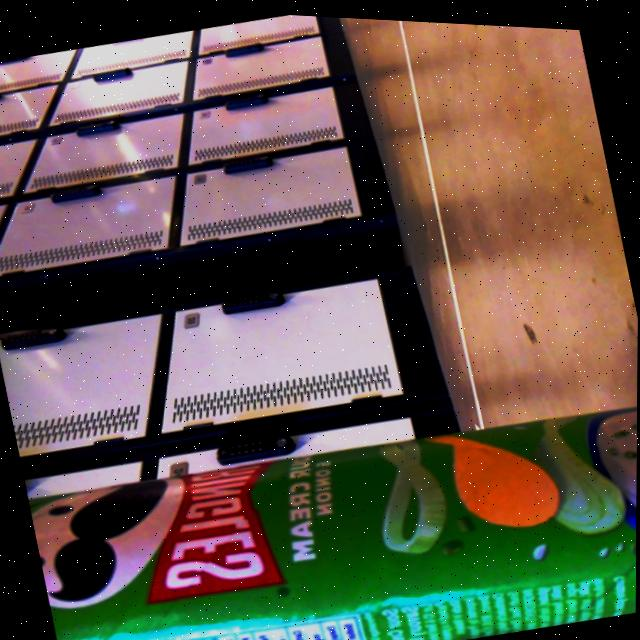greenpringles: (23, 349, 638, 640)
